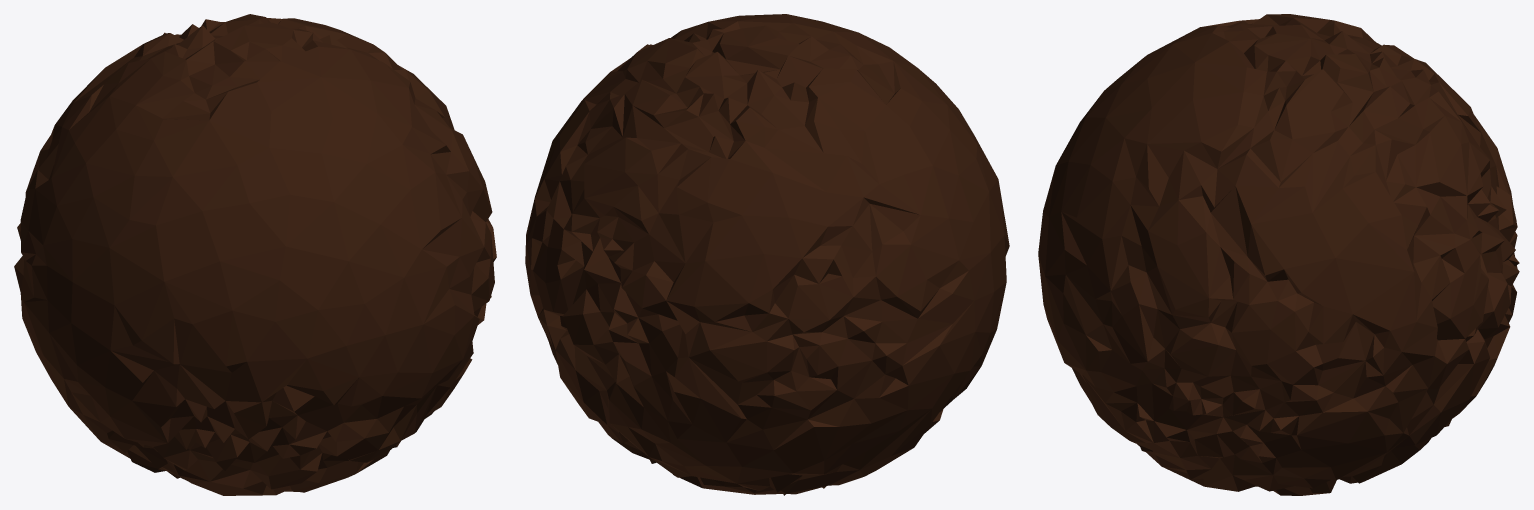
Rendered from Planet 7.FBX.
The picture shows the model from 3 angles, left to right: view 1: azimuth 30°, elevation 25°; view 2: azimuth 150°, elevation 25°; view 3: azimuth 270°, elevation 25°; orthographic projection.
Parts seen in each view (by area): view 1: Planet 7; view 2: Planet 7; view 3: Planet 7.
Boxes of the visible parts, x1,y1,x2,y2 form: Planet 7: (14, 14, 496, 495); Planet 7: (525, 14, 1009, 495); Planet 7: (1038, 14, 1519, 495).
Bounding box in the file's own units: 220 × 221 × 220.
